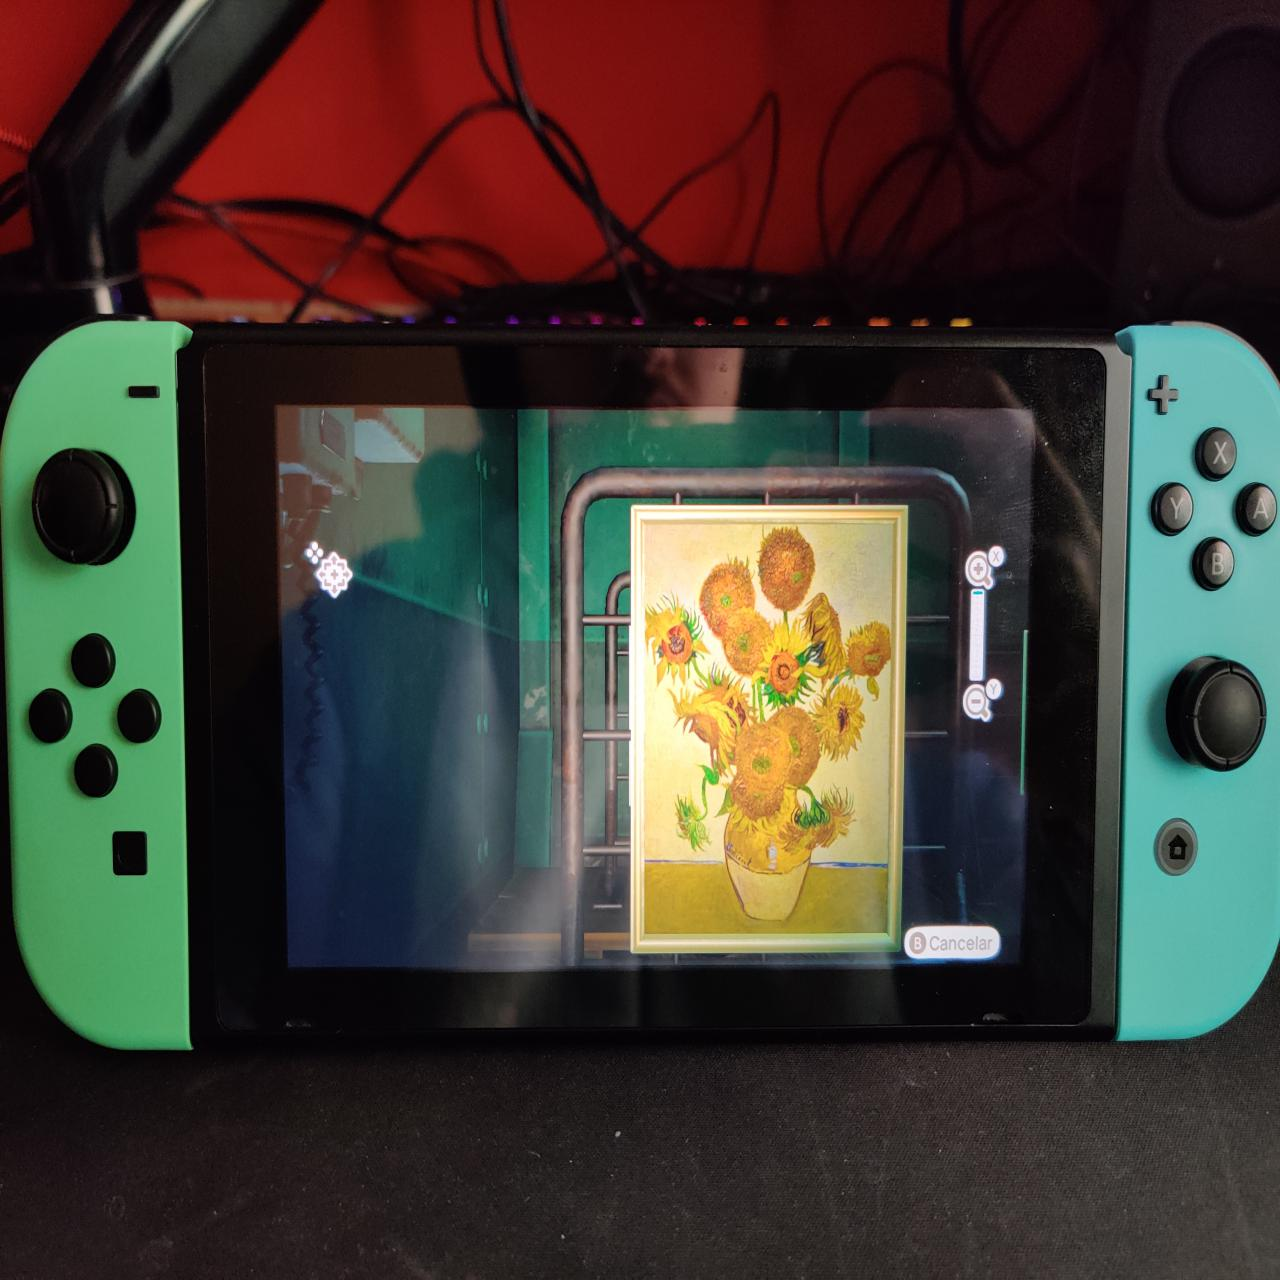Sunflower: (646, 526, 890, 930)
